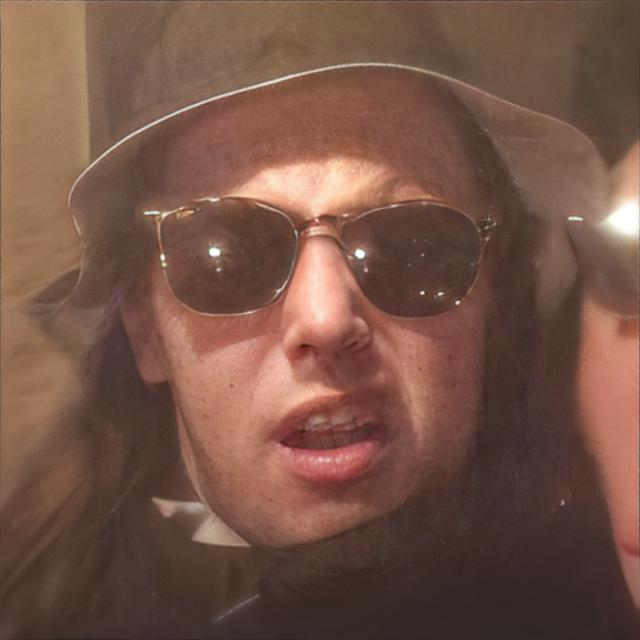disgust: (145, 62, 500, 574)
